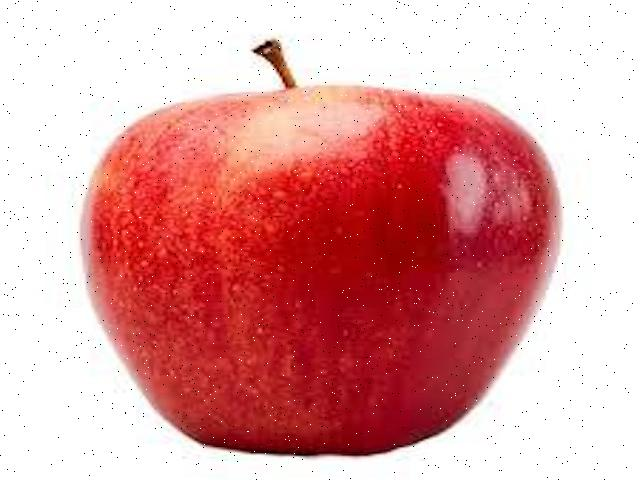apple: (73, 32, 568, 463)
